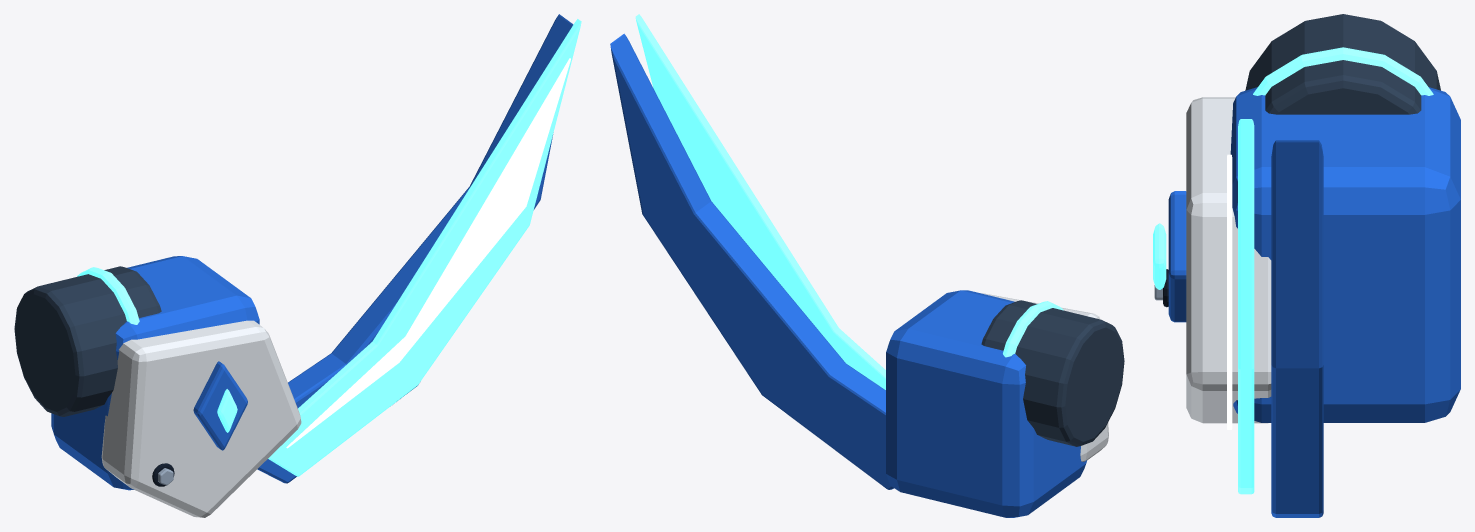
The model's file is arc_blade.glb.
The picture shows the model from 3 angles, left to right: view 1: azimuth 30°, elevation 25°; view 2: azimuth 150°, elevation 25°; view 3: azimuth 270°, elevation 25°; orthographic projection. The views are drawn at different scales.
Visible parts, largest first — view 1: ModuleArmor; view 2: ModuleArmor; view 3: ModuleArmor.
Part boxes in pixels (bbox=[...]): ModuleArmor: bbox=[14, 14, 581, 517]; ModuleArmor: bbox=[610, 14, 1124, 517]; ModuleArmor: bbox=[1153, 14, 1460, 517].
Bounding box in the file's own units: 1.35 × 1.03 × 0.471.
